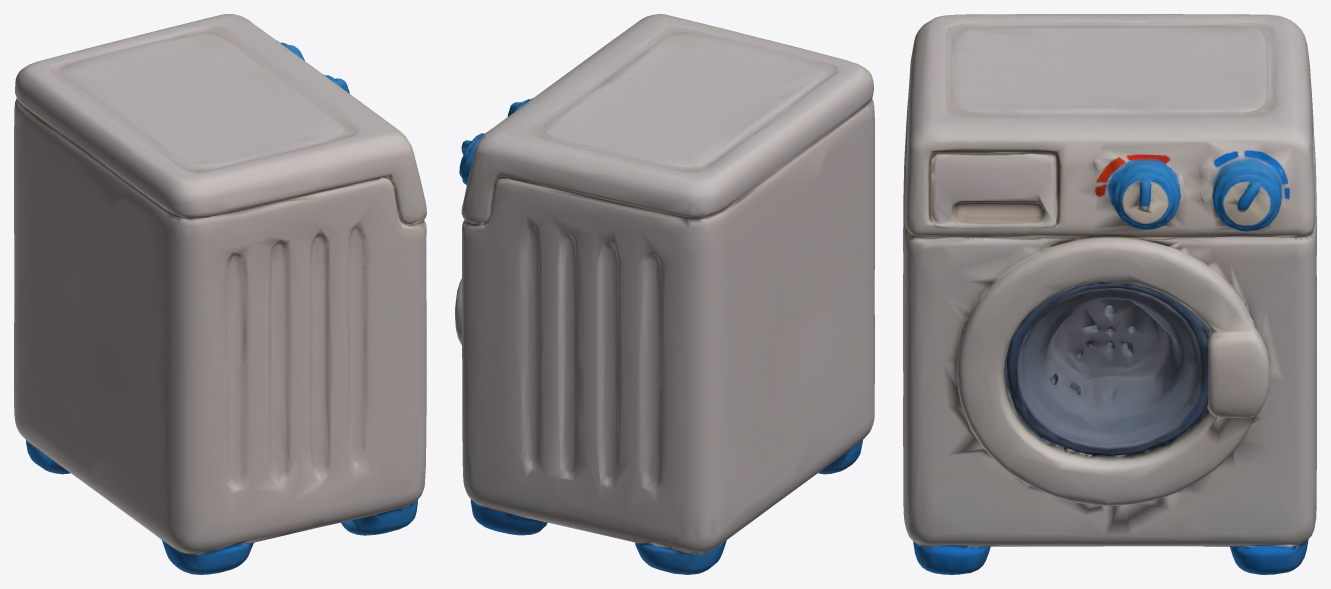
The model's file is washer.glb.
The picture shows the model from 3 angles, left to right: view 1: azimuth 30°, elevation 25°; view 2: azimuth 150°, elevation 25°; view 3: azimuth 270°, elevation 25°; orthographic projection. The views are drawn at different scales.
Visible parts, largest first — view 1: tripo_node_690b4999-5770-4002-a26f-26c1e8145d96; view 2: tripo_node_690b4999-5770-4002-a26f-26c1e8145d96; view 3: tripo_node_690b4999-5770-4002-a26f-26c1e8145d96.
Part boxes in pixels (x1,y1,x2,y2): tripo_node_690b4999-5770-4002-a26f-26c1e8145d96: [14, 14, 426, 574]; tripo_node_690b4999-5770-4002-a26f-26c1e8145d96: [455, 14, 874, 574]; tripo_node_690b4999-5770-4002-a26f-26c1e8145d96: [903, 14, 1316, 574].
Size of the model in its own units: 0.7191 by 0.9997 by 0.8456.
1 material, 1 textured.
